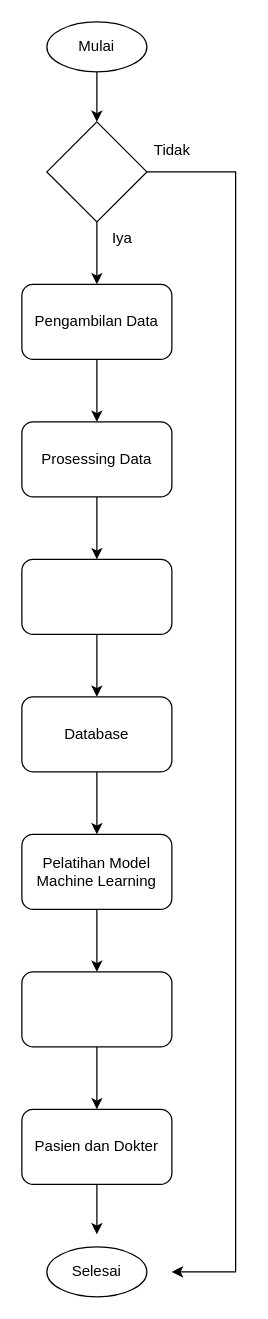
Some shapes in this 268 by 1319 pixel diagram are drawn without their labels. Here are the shapes that lost their labels. From the top down, the centre of each, then its label:
At point (96, 171): "Modul ON".
At point (96, 596): "Server".
At point (96, 1009): "Menampilan Hasil di Website".
